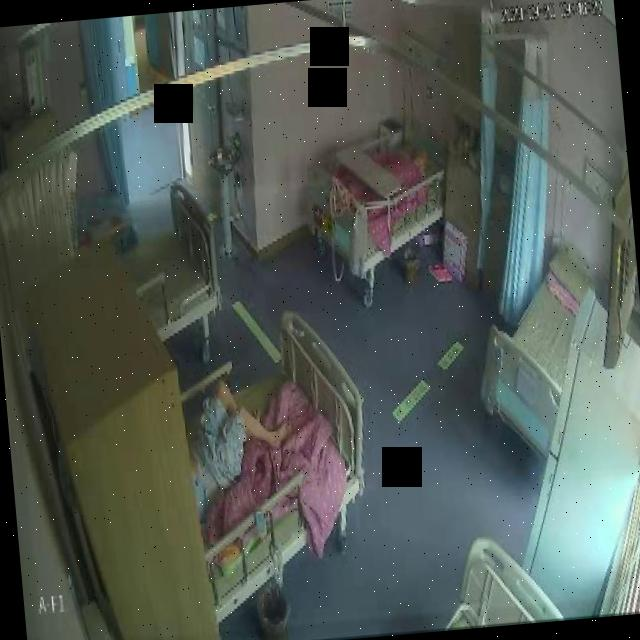bed: (175, 306, 378, 586), (286, 103, 455, 305), (468, 255, 604, 468), (112, 177, 225, 345)
lie: (178, 378, 286, 491)
patient: (179, 378, 286, 492)
